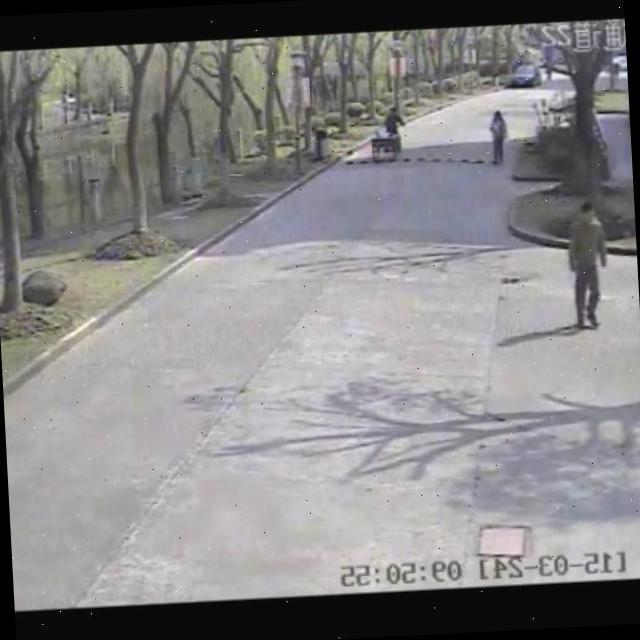person: (562, 195, 614, 335), (484, 104, 512, 168), (378, 102, 411, 138)
